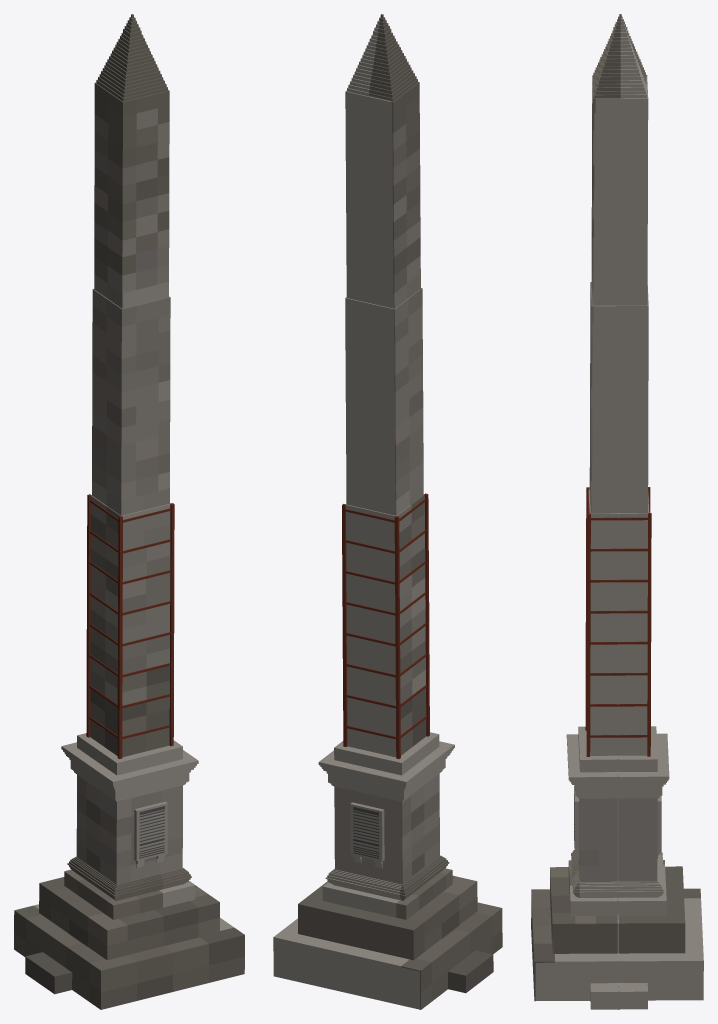
File: asset.gltf
3 views of the same model, side by side, from view 1: azimuth 30°, elevation 25°; view 2: azimuth 150°, elevation 25°; view 3: azimuth 270°, elevation 25° (orthographic).
Visible parts, largest first — view 1: Beacon.vox-3; view 2: Beacon.vox-3; view 3: Beacon.vox-3.
Boxes of the visible parts, box(x1,y1,x2,y2) form: Beacon.vox-3: box(14, 14, 244, 1009); Beacon.vox-3: box(273, 14, 502, 1009); Beacon.vox-3: box(531, 14, 703, 1009).
Bounding box in the file's own units: 18.56 × 91.86 × 15.09.
Materials: 4 (4 with a texture image).
